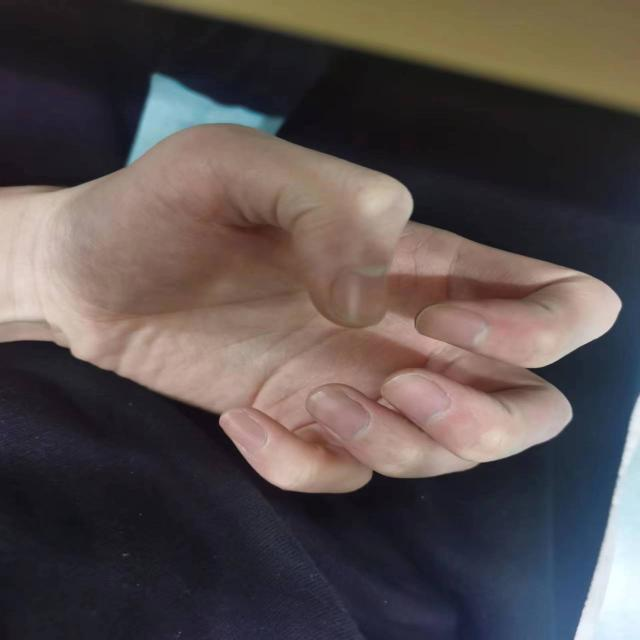Nail: (330, 265, 389, 326), (381, 373, 451, 420), (305, 389, 369, 438), (416, 304, 488, 347), (219, 410, 268, 450)
